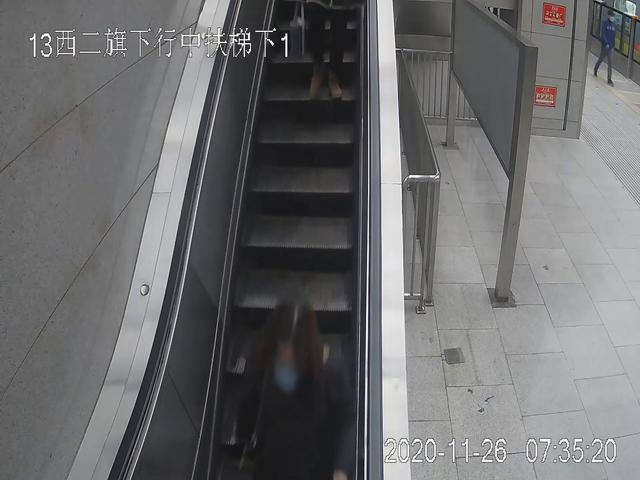person: (239, 298, 355, 480), (592, 10, 621, 87)
